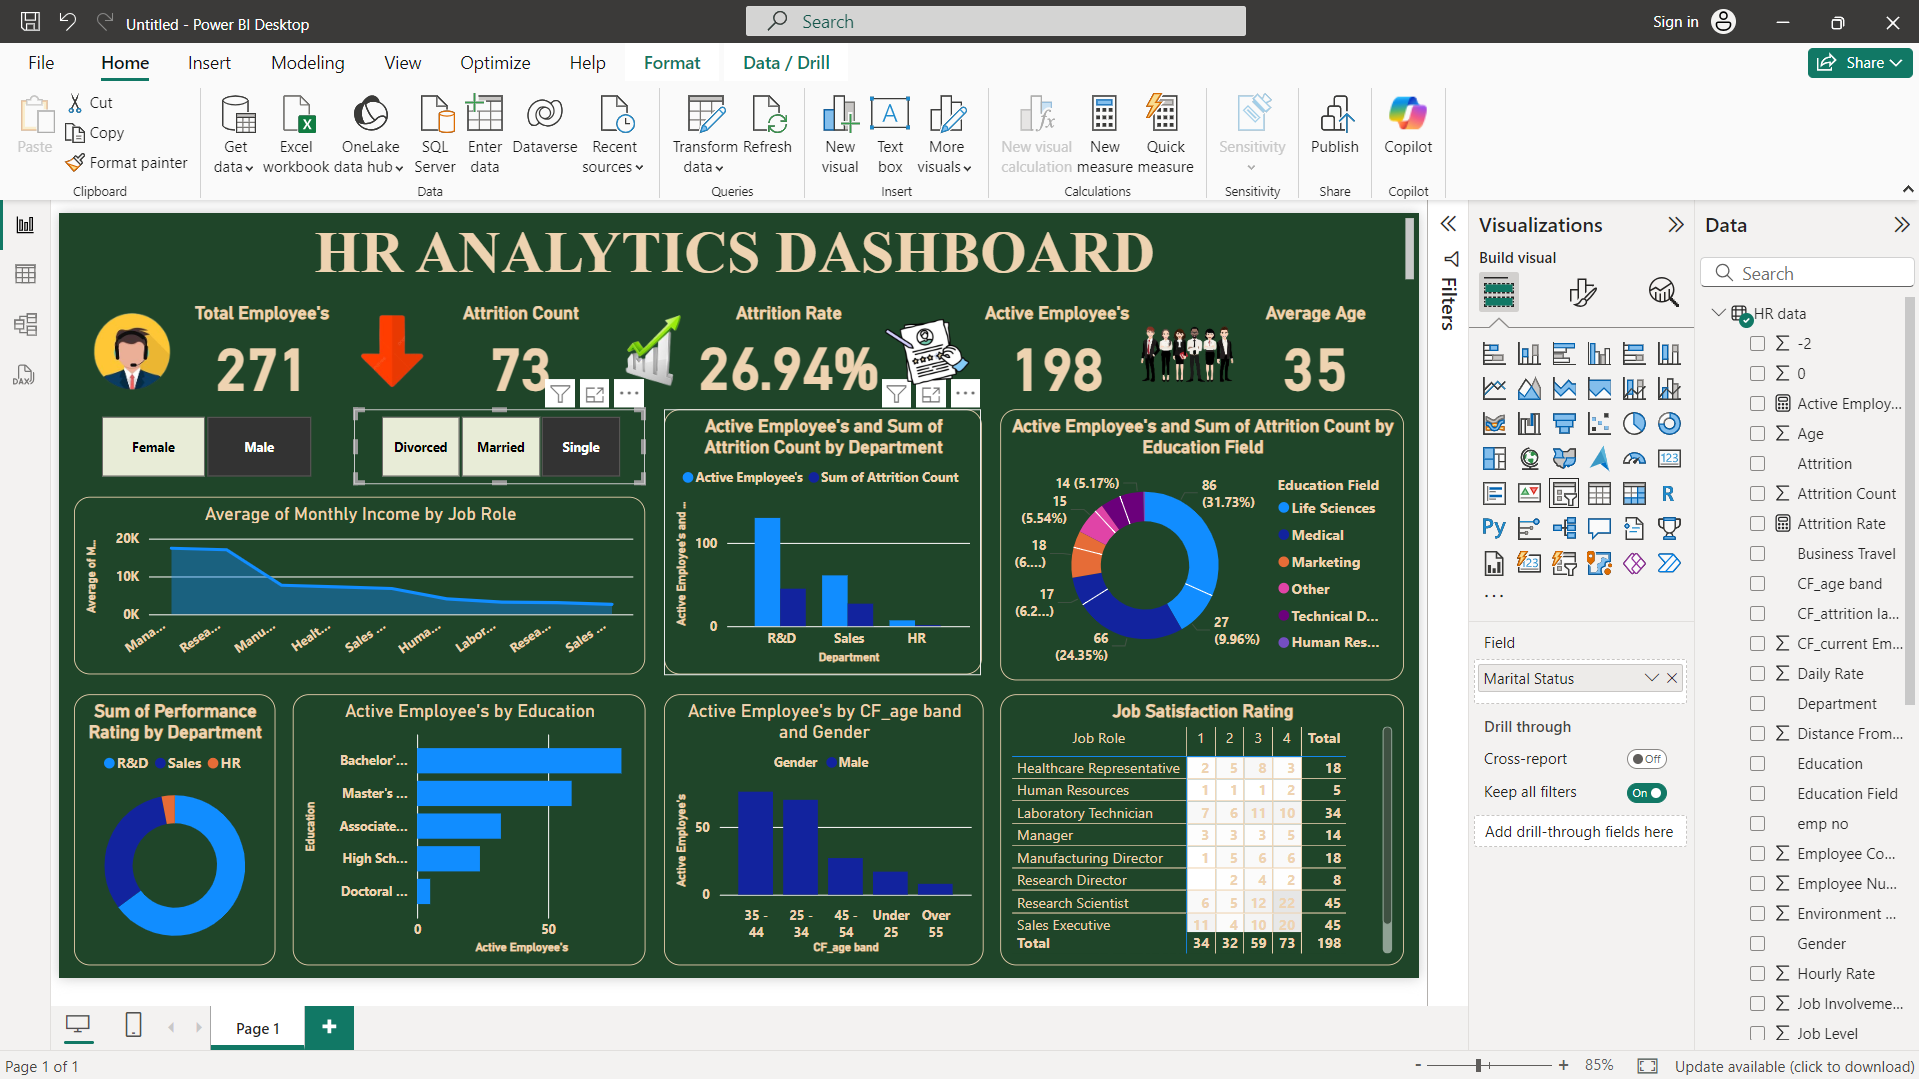

This screenshot's page, from the dashboard's own definition file:
{"tool":"powerbi","page":{"name":"Page 1","canvas":[1280,720],"ordinal":0},"visuals":[{"type":"card","title":"Total Employee''s","fields":{"Values":["Sum(HR data.Employee Count)"]},"box":[108.2,83.1,166,94.7],"z":0},{"type":"clusteredColumnChart","fields":{"Category":["HR data.Department"],"Y":["HR data.Active Employee's","Sum(HR data.Attrition Count)"]},"box":[569.5,185.2,299.1,249.7],"z":0},{"type":"card","title":"Average Age","fields":{"Values":["Avg(HR data.Age)"]},"box":[1100.5,83.1,166,94.7],"z":1000},{"type":"donutChart","fields":{"Y":["HR data.Active Employee's","Sum(HR data.Attrition Count)"],"Category":["HR data.Education Field"]},"box":[886.5,185.2,380.1,255.2],"z":1000},{"type":"card","title":"Active Employee''s","fields":{"Values":["HR data.Active Employee's"]},"box":[856.8,83.1,166,94.7],"z":2000},{"type":"columnChart","fields":{"Y":["HR data.Active Employee's"],"Category":["HR data.CF_age band"],"Series":["HR data.Gender"]},"box":[569.5,452.8,300.5,255.2],"z":2000},{"type":"card","title":"Attrition Rate","fields":{"Values":["HR data.Attrition Rate"]},"box":[595.7,83.4,183.5,94.1],"z":3000},{"type":"pivotTable","title":"Job Satisfaction Rating","fields":{"Rows":["HR data.Job Role"],"Columns":["HR data.Job Satisfaction"],"Values":["HR data.Active Employee's"]},"box":[886.5,452.8,380.1,255.2],"z":3000},{"type":"card","title":"Attrition Count","fields":{"Values":["Sum(HR data.Attrition Count)"]},"box":[351.9,83.1,166,94.7],"z":4000},{"type":"donutChart","fields":{"Y":["Sum(HR data.Performance Rating)"],"Category":["HR data.Department"]},"box":[13.7,452.8,189.4,255.2],"z":4000},{"type":"clusteredBarChart","fields":{"Category":["HR data.Education"],"Y":["HR data.Active Employee's"]},"box":[219.6,452.8,332.1,255.2],"z":5000},{"type":"areaChart","fields":{"Category":["HR data.Job Role"],"Y":["Avg(HR data.Monthly Income)"]},"box":[13.7,267.6,537.9,167.4],"z":6000},{"type":"slicer","fields":{"Values":["HR data.Gender"]},"box":[13.7,185.2,247,70],"z":7000},{"type":"slicer","fields":{"Values":["HR data.Marital Status"]},"box":[277.2,185.2,274.4,70],"z":8000},{"type":"image","box":[768,79.9,100,101.2],"z":10000},{"type":"image","box":[263,80.4,100.2,100.2],"z":11000},{"type":"image","box":[1011.6,80.4,100.2,100.2],"z":12000},{"type":"image","box":[506.7,80.4,100.2,100.2],"z":13000},{"type":"image","box":[19.2,80.4,100.2,100.2],"z":14000},{"type":"textbox","box":[0,0,1280.3,78.2],"z":15000}]}

Visuals, with their boxes on the page's 1280x720 design canvas (x1, y1, x2, y2). These are canvas units, not pixel positions in the 1919x1079 screenshot, which may show the page scaled, cropped or inside an application window:
"Total Employee''s" card: 108:83:274:178
clusteredColumnChart - HR data.Department x HR data.Active Employee's: 570:185:869:435
"Average Age" card: 1100:83:1266:178
donutChart - HR data.Active Employee's x Sum(HR data.Attrition Count): 886:185:1267:440
"Active Employee''s" card: 857:83:1023:178
columnChart - HR data.Active Employee's x HR data.CF_age band: 570:453:870:708
"Attrition Rate" card: 596:83:779:178
"Job Satisfaction Rating" pivotTable: 886:453:1267:708
"Attrition Count" card: 352:83:518:178
donutChart - Sum(HR data.Performance Rating) x HR data.Department: 14:453:203:708
clusteredBarChart - HR data.Education x HR data.Active Employee's: 220:453:552:708
areaChart - HR data.Job Role x Avg(HR data.Monthly Income): 14:268:552:435
slicer - HR data.Gender: 14:185:261:255
slicer - HR data.Marital Status: 277:185:552:255
image: 768:80:868:181
image: 263:80:363:181
image: 1012:80:1112:181
image: 507:80:607:181
image: 19:80:119:181
textbox: 0:0:1280:78
